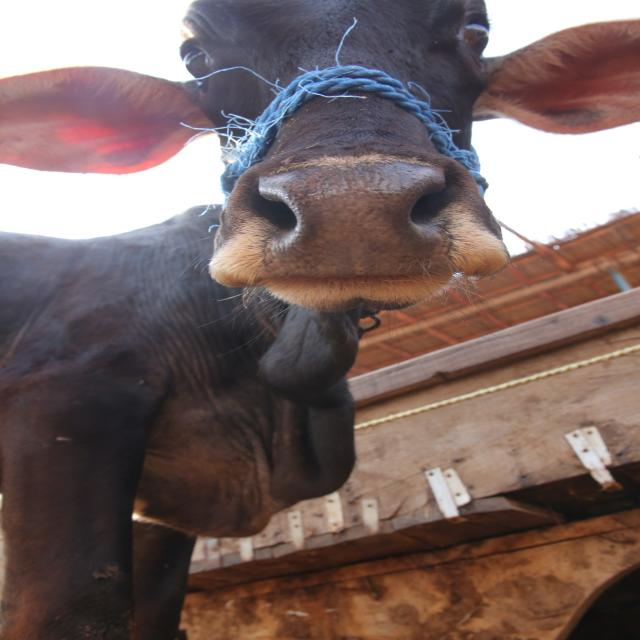muzzles: (244, 151, 482, 293)
